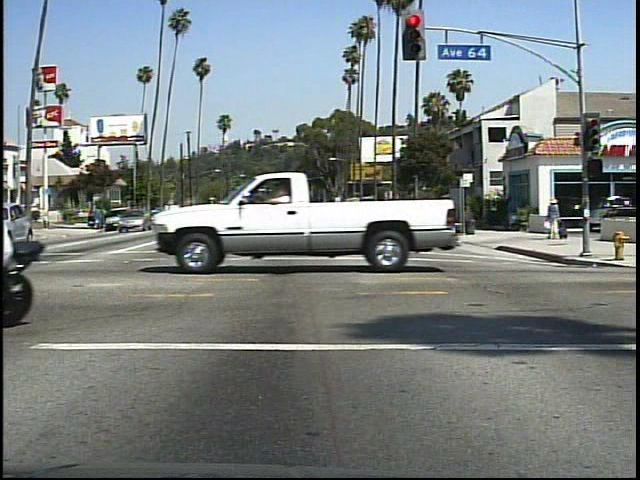person: (541, 194, 566, 244)
